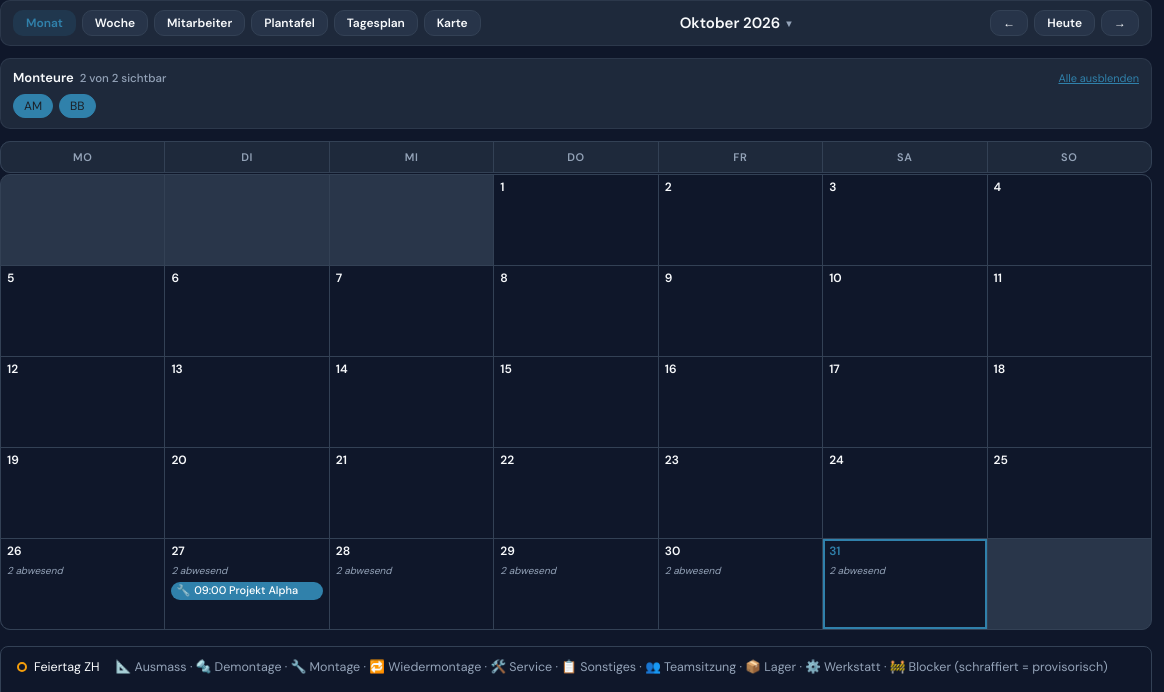
Test: Ferien grün, Einsätze im Hintergrund (WW-59) › Plantafel: Ferienzelle grün markiert, andere Absenz nicht
The image size is (1164, 692).
Click the button "Plantafel" at (290, 23), box [251,10,328,36]
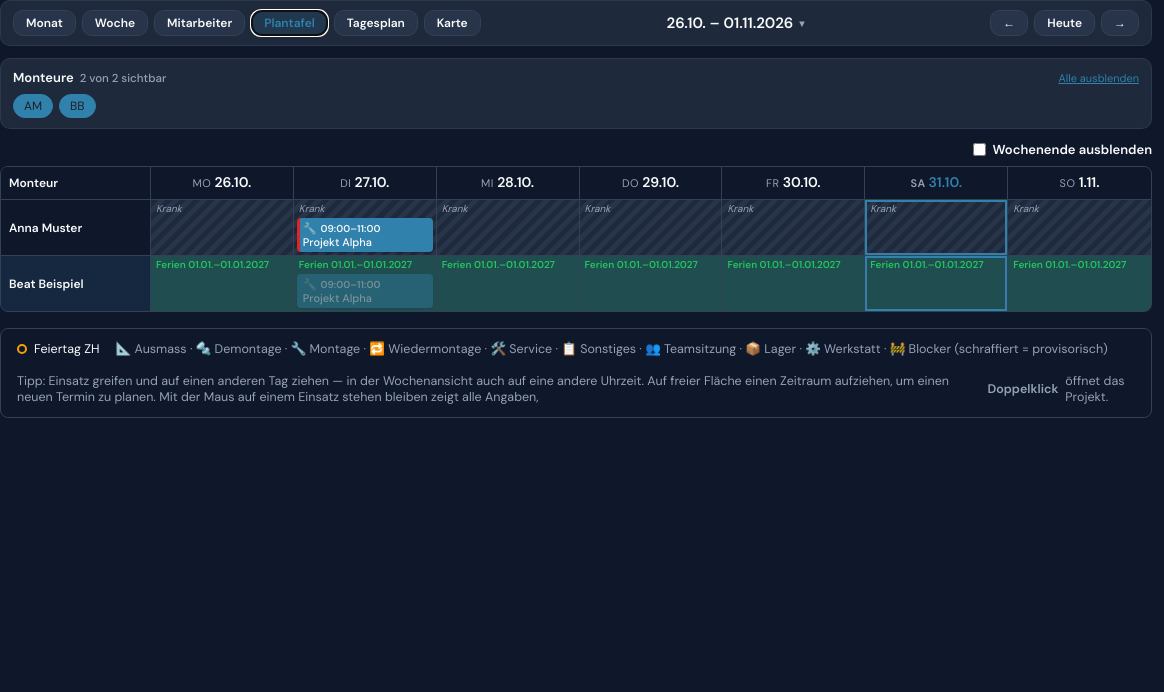
Now the number of elements with class "absent" is 7
